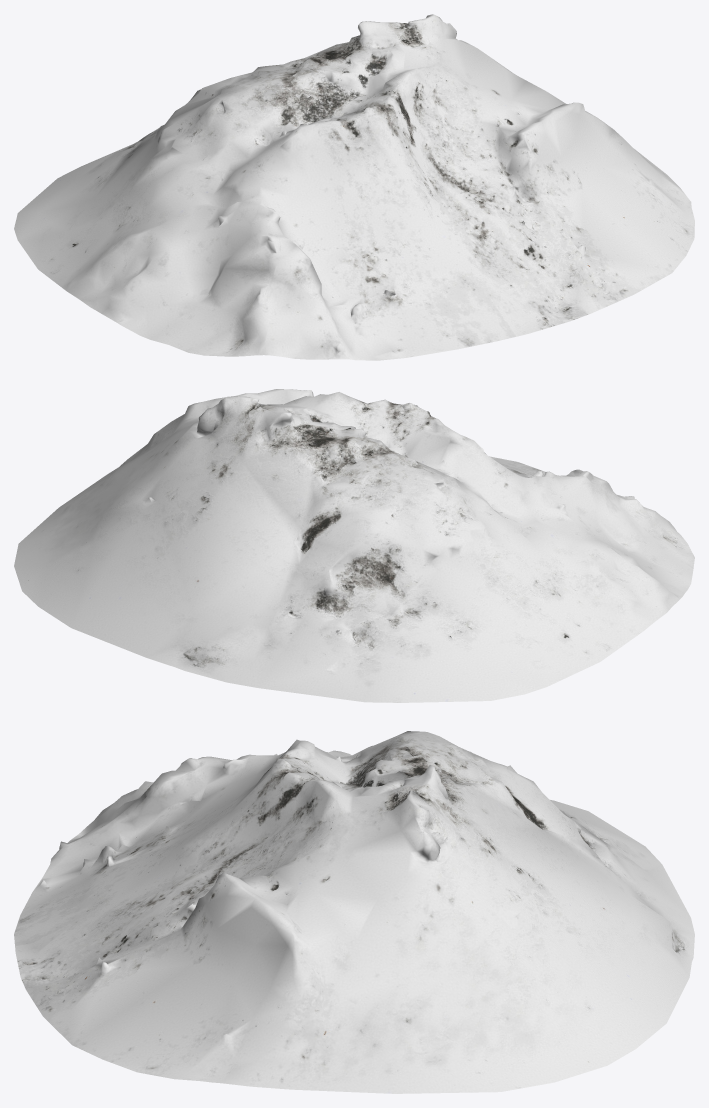
Rendered from snow_pile.glb.
3 views of the same model, one above another, from view 1: azimuth 30°, elevation 25°; view 2: azimuth 150°, elevation 25°; view 3: azimuth 270°, elevation 25° (orthographic). The views are drawn at different scales.
Parts seen in each view (by area): view 1: xgxhcjxqx_LOD0_TIER3_000; view 2: xgxhcjxqx_LOD0_TIER3_000; view 3: xgxhcjxqx_LOD0_TIER3_000.
Boxes of the visible parts, x1=… form: xgxhcjxqx_LOD0_TIER3_000: x1=14, y1=14, x2=694, y2=360; xgxhcjxqx_LOD0_TIER3_000: x1=14, y1=389, x2=694, y2=702; xgxhcjxqx_LOD0_TIER3_000: x1=14, y1=731, x2=694, y2=1093.
Bounding box in the file's own units: 7.15 × 2.08 × 6.45.
Materials: 1 (1 with a texture image).
